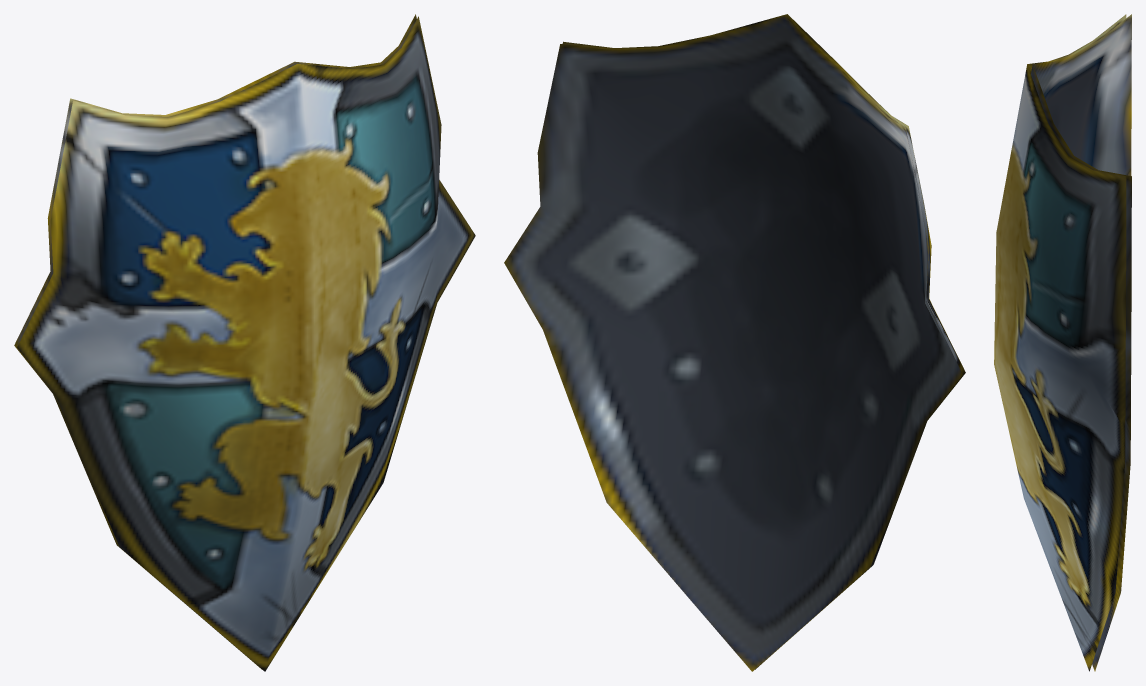
Rendered from 3d_char_wea_cle_shield_intrepidityshield.FBX.
3 views of the same model, side by side, from view 1: azimuth 30°, elevation 25°; view 2: azimuth 150°, elevation 25°; view 3: azimuth 270°, elevation 25° (orthographic). The views are drawn at different scales.
Parts seen in each view (by area): view 1: 3d_char_wea_cle_shield_intrepidityshield; view 2: 3d_char_wea_cle_shield_intrepidityshield; view 3: 3d_char_wea_cle_shield_intrepidityshield.
Part boxes in pixels (<box>): 3d_char_wea_cle_shield_intrepidityshield: <box>14,14,475,671</box>; 3d_char_wea_cle_shield_intrepidityshield: <box>504,14,965,671</box>; 3d_char_wea_cle_shield_intrepidityshield: <box>994,14,1131,671</box>.
Bounding box in the file's own units: 53.62 × 70.57 × 14.5.
